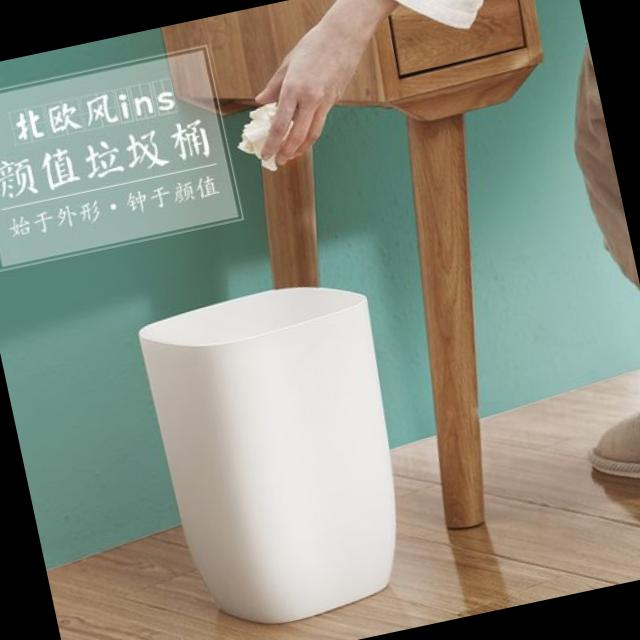dustbin: (125, 267, 440, 640)
